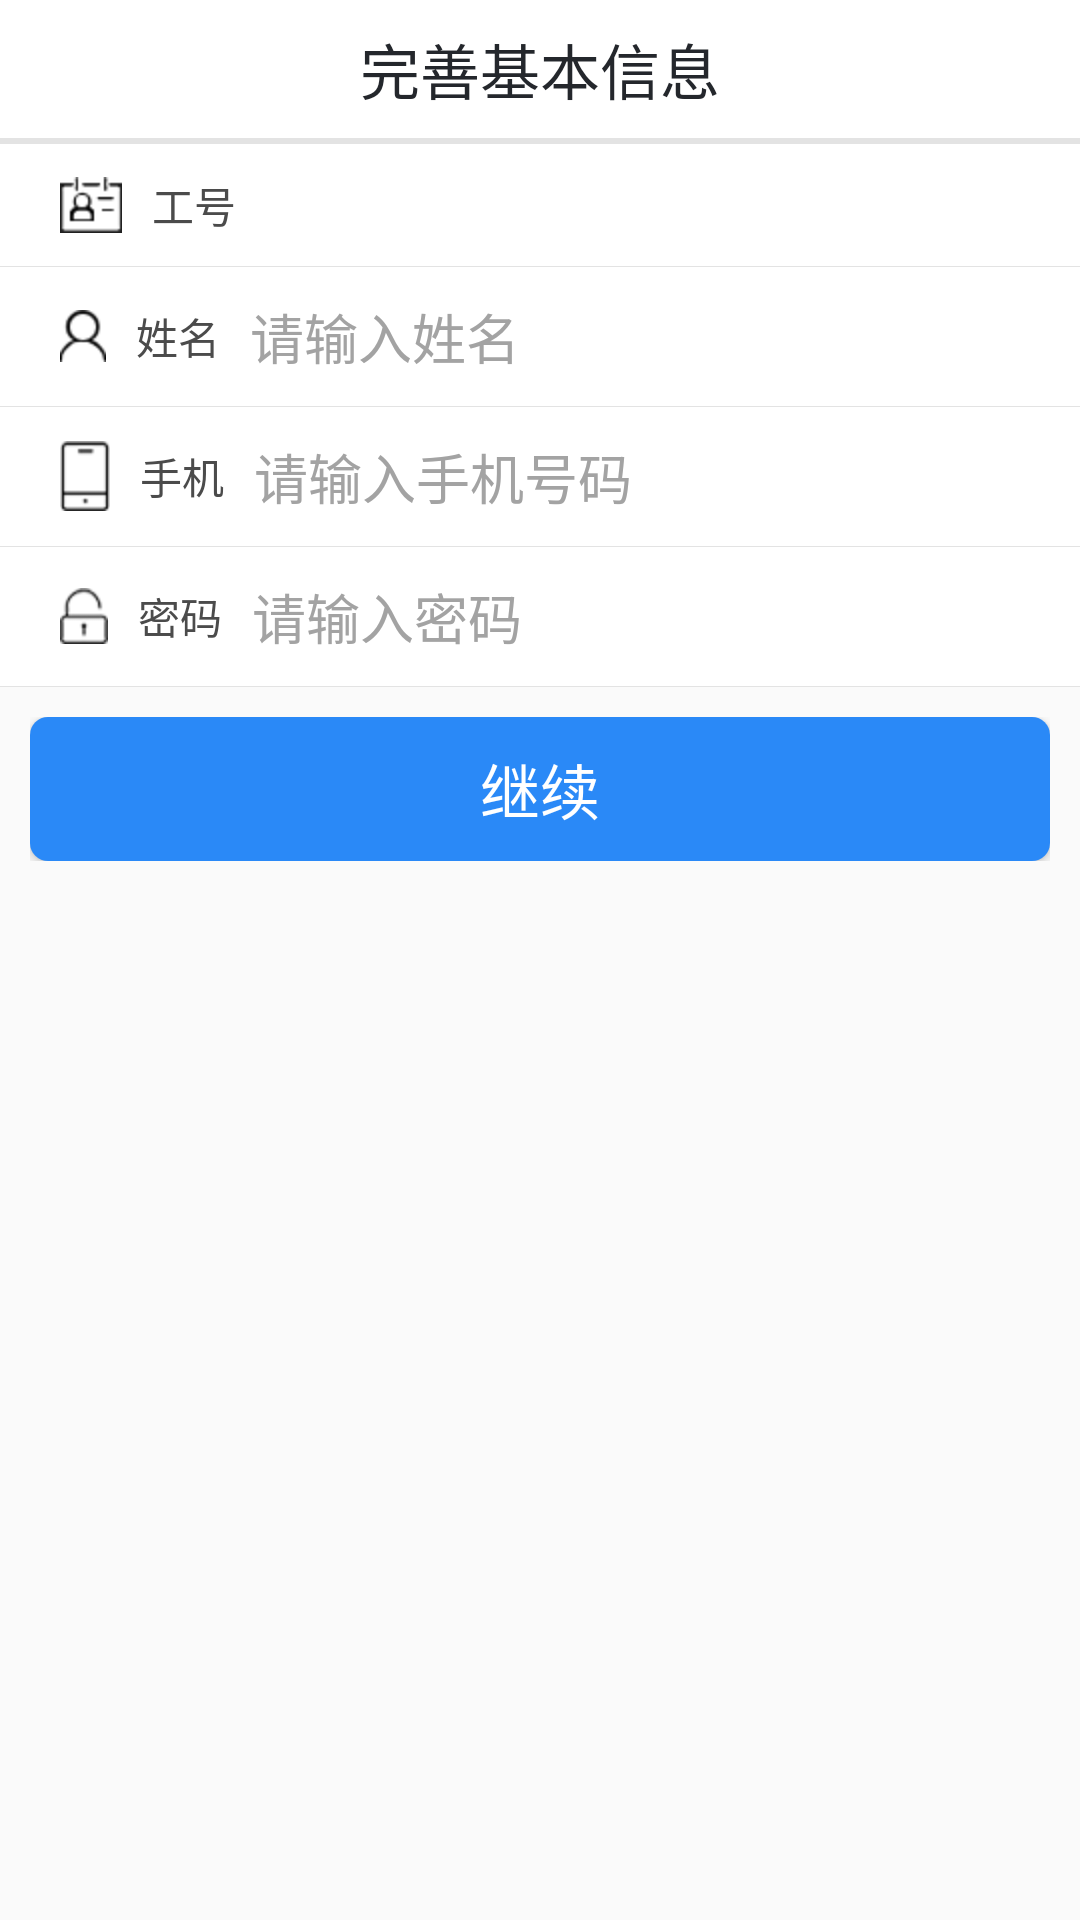

Where icons sit on this 1080 x 1920 app screen, as {"left": x1, "top": y1, "right": x2, "bottom": y2}:
perfect number: {"left": 60, "top": 177, "right": 122, "bottom": 233}
perfect pass: {"left": 60, "top": 588, "right": 108, "bottom": 644}
perfect phone: {"left": 60, "top": 441, "right": 110, "bottom": 511}
perfect user: {"left": 60, "top": 310, "right": 106, "bottom": 362}
